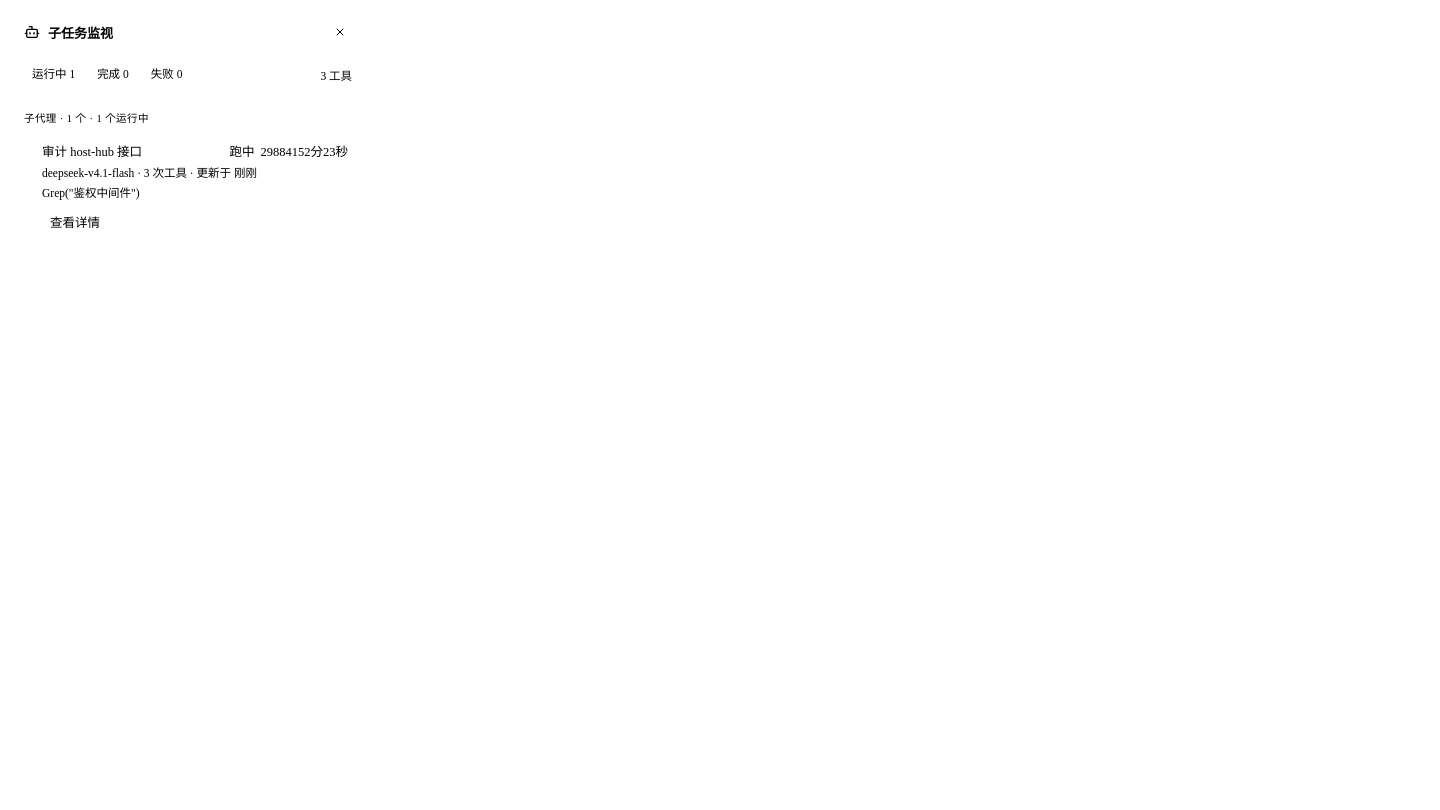
Scenario: 子任务监视面板 › 「查看详情」按钮打开运行情况弹窗
Click the button "查看详情" at (75, 223), box left=42, top=212, right=108, bottom=234
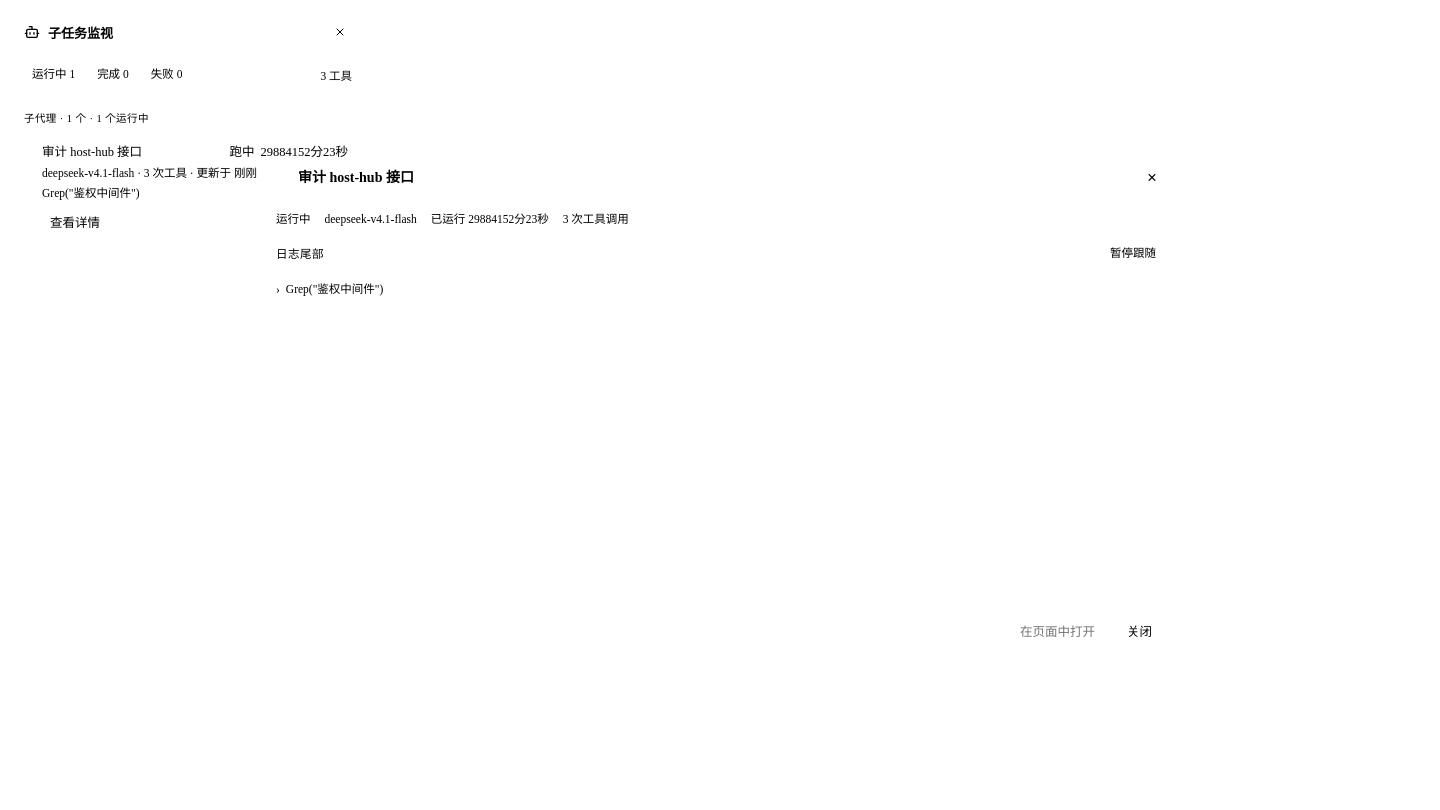
Result: the dialog is shown at left=260, top=154, right=1180, bottom=656
